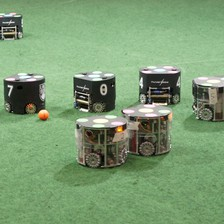ball: (35, 106, 49, 119)
robot: (73, 112, 129, 168), (125, 101, 173, 156), (71, 68, 116, 113), (135, 62, 181, 106), (1, 70, 46, 111), (189, 73, 224, 122), (1, 9, 24, 40)
